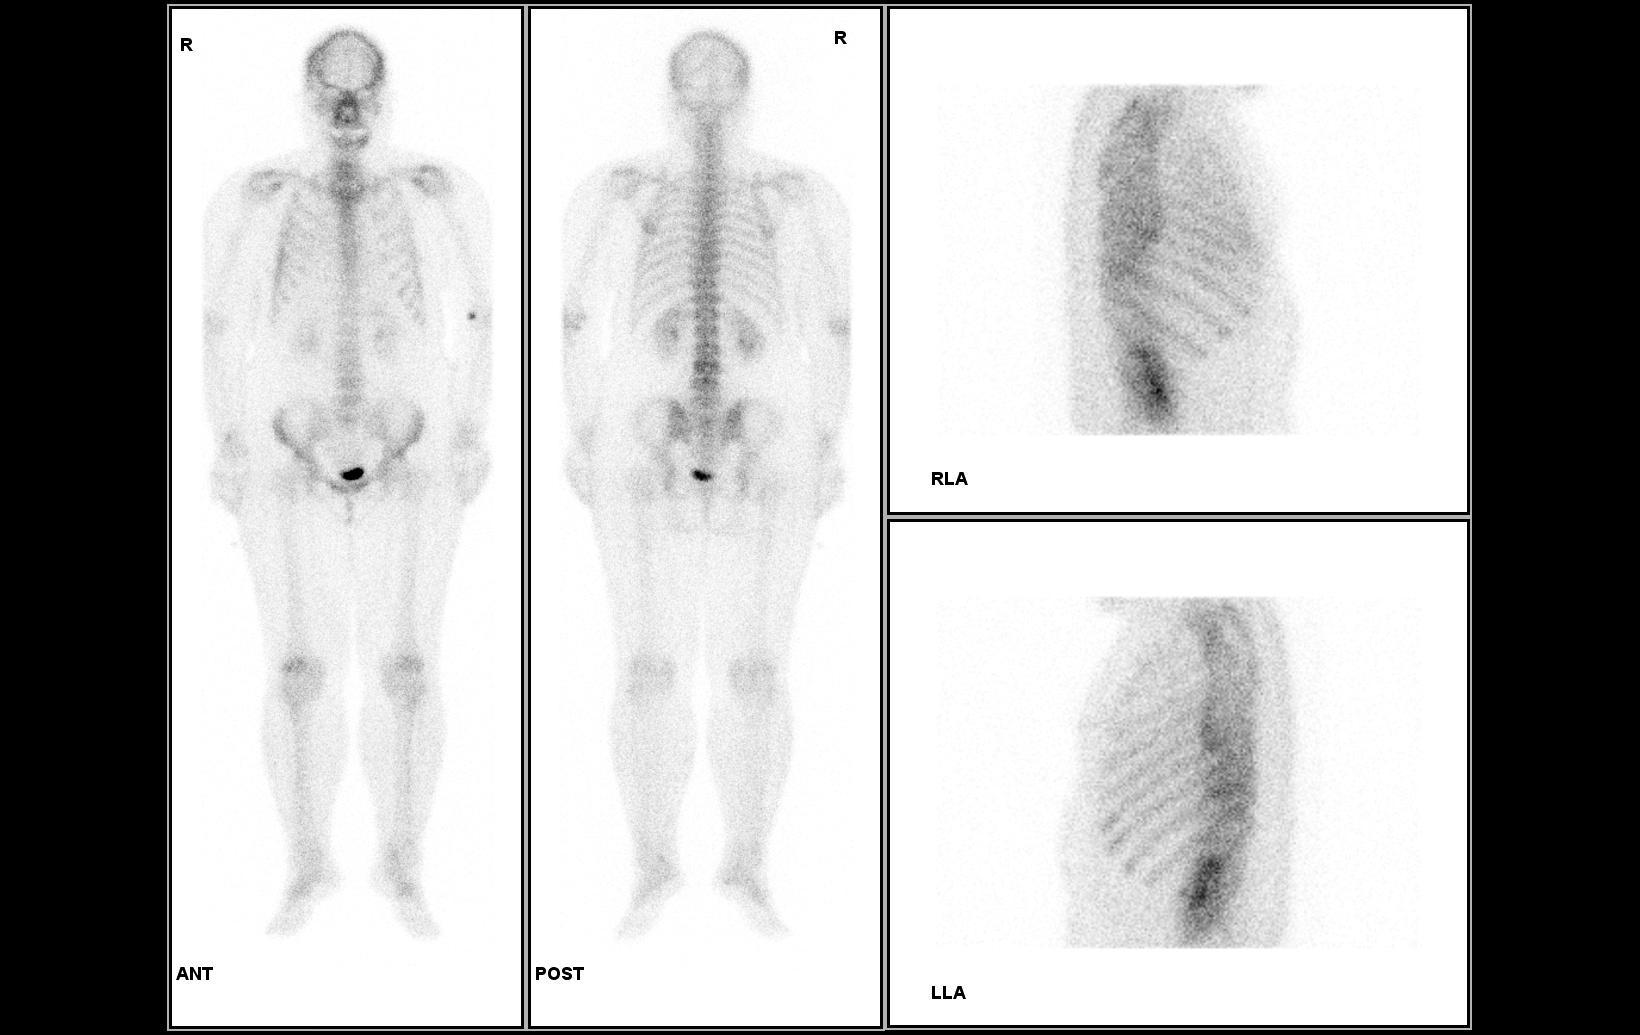person: (169, 9, 881, 1031)
